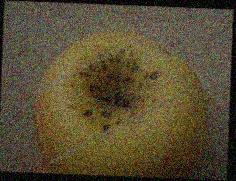rotten apple: (32, 30, 205, 176)
